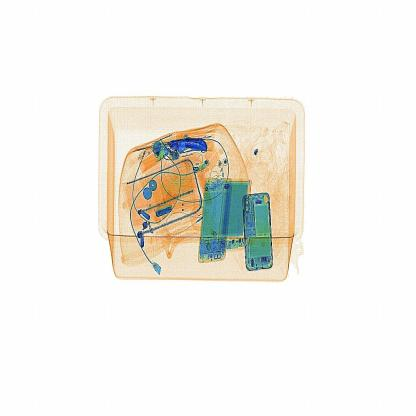knife: (168, 133, 218, 159)
